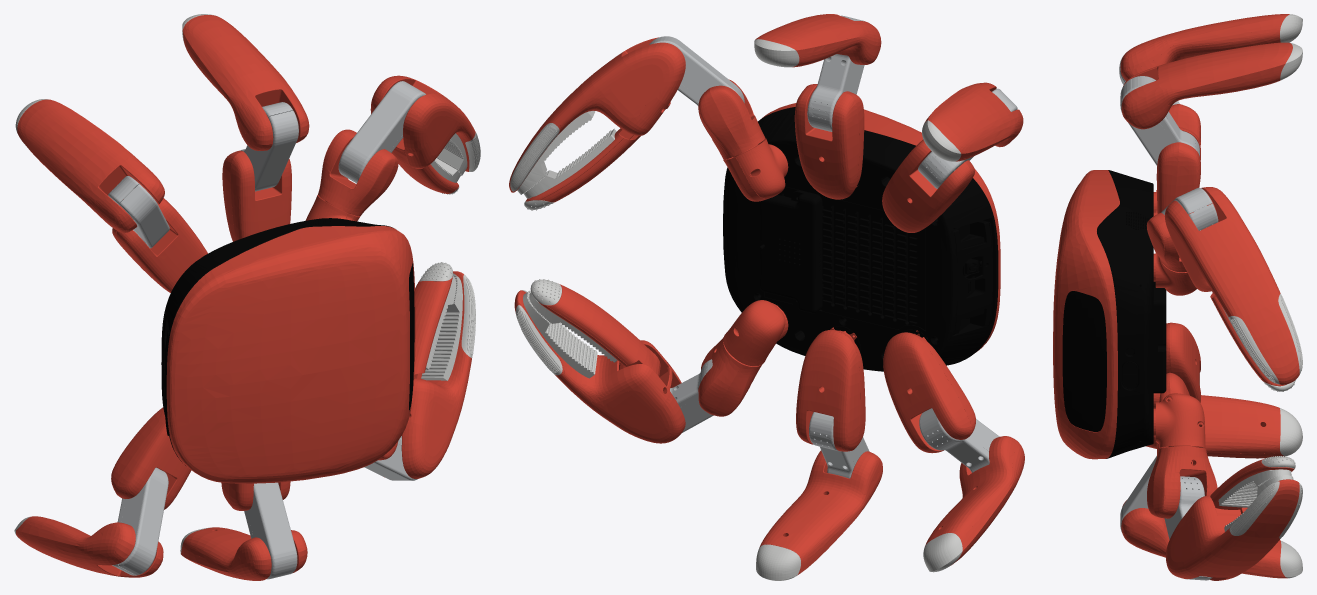
File: assembly_home.glb
3 views of the same model, side by side, from view 1: azimuth 30°, elevation 25°; view 2: azimuth 150°, elevation 25°; view 3: azimuth 270°, elevation 25° (orthographic).
Parts seen in each view (by area): view 1: upper_shell_link, LR_calf_link, LM_calf_link, RF_palm_link, RR_calf_link, LF_palm_link, LM_hip_link, RM_calf_link, RR_hip_link, LR_hip_link, LF_upper_arm_link, base_link (+14 smaller); view 2: base_link, LF_palm_link, RF_palm_link, RM_calf_link, RR_hip_link, RM_hip_link, LM_hip_link, RR_calf_link, LR_calf_link, LR_hip_link, LM_calf_link, RF_finger_link (+23 smaller); view 3: base_link, LF_palm_link, upper_shell_link, RF_palm_link, LM_calf_link, display_module_link, LR_calf_link, RR_calf_link, RF_upper_arm_link, RF_shoulder_link, RM_calf_link, LM_hip_link (+21 smaller).
Part boxes in pixels (box(x1,y1,x2,y2)): upper_shell_link: box(166, 226, 415, 483); LR_calf_link: box(17, 99, 164, 232); LM_calf_link: box(182, 15, 309, 150); RF_palm_link: box(384, 271, 471, 478); RR_calf_link: box(16, 516, 163, 577); LF_palm_link: box(370, 75, 475, 171); LM_hip_link: box(222, 150, 291, 241); RM_calf_link: box(181, 527, 307, 580); RR_hip_link: box(111, 407, 191, 509); LR_hip_link: box(112, 198, 207, 292); LF_upper_arm_link: box(318, 129, 398, 216); base_link: box(161, 218, 392, 465); base_link: box(723, 107, 998, 371); LF_palm_link: box(509, 37, 685, 192); RF_palm_link: box(514, 290, 685, 443); RM_calf_link: box(759, 450, 882, 575); RR_hip_link: box(883, 330, 975, 453); RM_hip_link: box(796, 327, 865, 451); LM_hip_link: box(794, 84, 864, 199); RR_calf_link: box(925, 436, 1024, 565); LR_calf_link: box(924, 82, 1023, 161); LR_hip_link: box(882, 139, 974, 232); LM_calf_link: box(755, 14, 881, 67); RF_finger_link: box(538, 284, 660, 376); base_link: box(1097, 170, 1166, 458); LF_palm_link: box(1164, 187, 1299, 384); upper_shell_link: box(1053, 170, 1119, 459); RF_palm_link: box(1165, 479, 1299, 580); LM_calf_link: box(1121, 42, 1292, 129); display_module_link: box(1062, 291, 1106, 431); LR_calf_link: box(1120, 14, 1289, 80); RR_calf_link: box(1146, 395, 1284, 458); RF_upper_arm_link: box(1147, 446, 1217, 518); RF_shoulder_link: box(1153, 393, 1205, 448); RM_calf_link: box(1121, 500, 1287, 578); LM_hip_link: box(1153, 127, 1200, 215).
Size of the model in its own units: 0.3685 by 0.4153 by 0.1784.
